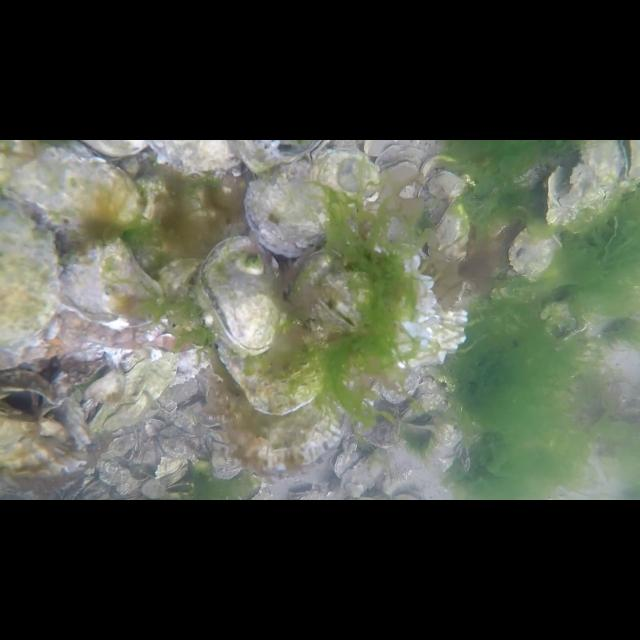Oyster-Closed: (293, 246, 467, 368), (214, 296, 330, 416), (224, 366, 342, 472), (8, 147, 144, 226), (58, 234, 164, 330), (0, 199, 58, 361), (90, 355, 176, 431), (546, 140, 622, 222), (0, 436, 90, 478), (508, 223, 562, 284), (426, 196, 469, 262), (0, 408, 68, 448), (339, 448, 388, 496), (361, 397, 403, 448), (422, 154, 466, 202), (210, 429, 242, 481), (380, 365, 420, 403)
Oyster-Open: (244, 150, 378, 256), (199, 235, 287, 355), (146, 140, 242, 178), (225, 140, 329, 172), (0, 370, 60, 420), (227, 140, 295, 176), (377, 154, 421, 188), (328, 447, 362, 479), (618, 140, 640, 186), (398, 394, 430, 422), (400, 413, 436, 435)
